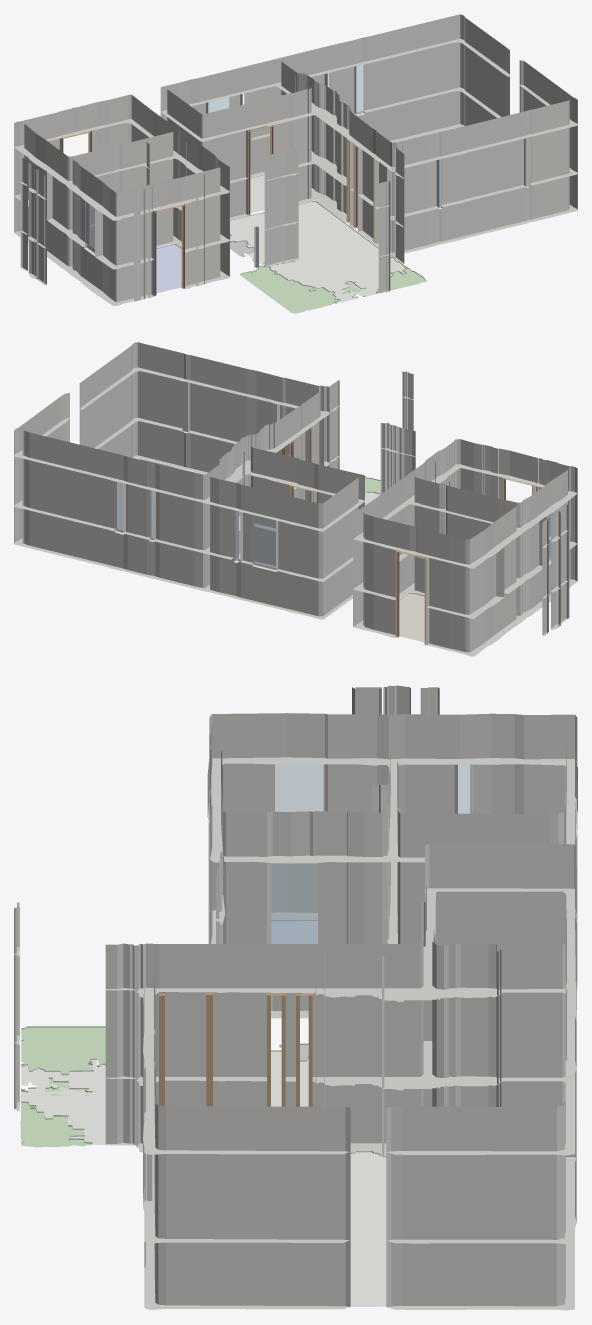
3 views of the same model, one above another, from view 1: azimuth 30°, elevation 25°; view 2: azimuth 150°, elevation 25°; view 3: azimuth 270°, elevation 25° (orthographic). The views are drawn at different scales.
Visible parts, largest first — view 1: walls, floor_9_Undefined, floor_2_Outdoor, floor_4_Bed_Room, door_4, floor_12_Undefined, floor_0_Outdoor, window_10, window_12, door_1, door_3; view 2: walls, window_8, floor_6_Storage, door_0, floor_11_Undefined, window_10; view 3: walls, floor_11_Undefined, floor_9_Undefined, window_13, floor_2_Outdoor, window_12, floor_0_Outdoor, floor_4_Bed_Room, door_3, door_2, door_5.
Boxes of the visible parts, x1,y1,x2,y2 form: walls: (14,14,577,305); floor_9_Undefined: (230,201,405,303); floor_2_Outdoor: (240,265,340,313); floor_4_Bed_Room: (156,244,181,293); door_4: (155,204,184,295); floor_12_Undefined: (250,174,264,213); floor_0_Outdoor: (376,267,426,293); window_10: (355,64,364,113); window_12: (85,201,99,253); door_1: (248,125,273,215); door_3: (353,143,357,228); walls: (14,342,577,656); window_8: (252,515,276,569); floor_6_Storage: (399,592,424,642); door_0: (395,550,426,644); floor_11_Undefined: (117,459,203,537); window_10: (115,481,124,532); walls: (14,685,577,1310); floor_11_Undefined: (350,1150,386,1306); floor_9_Undefined: (20,1050,308,1145); window_13: (271,863,317,943); floor_2_Outdoor: (21,1026,105,1073); window_12: (275,760,323,811); floor_0_Outdoor: (20,1101,92,1147); floor_4_Bed_Room: (271,920,317,943); door_3: (267,992,285,1106); door_2: (296,993,312,1106); door_5: (206,992,212,1106).
Size of the model in its own units: 12.38 by 2.72 by 6.93.
